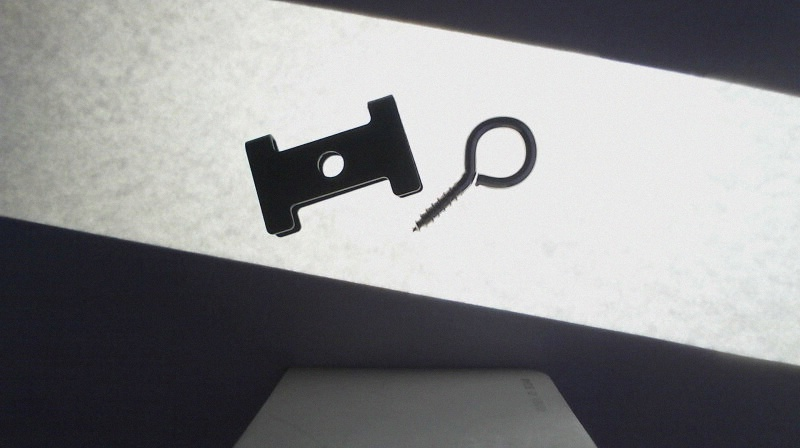O001: (407, 114, 538, 233)
O002: (243, 93, 422, 239)
